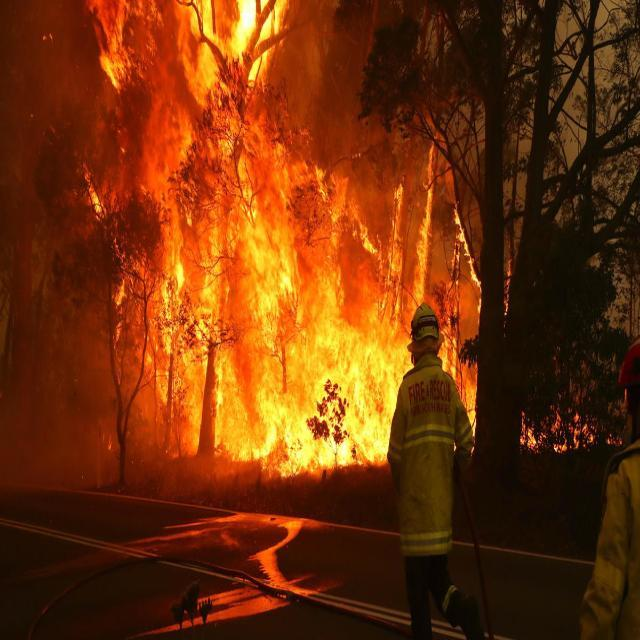Fire: (64, 0, 488, 493), (510, 387, 622, 458)
